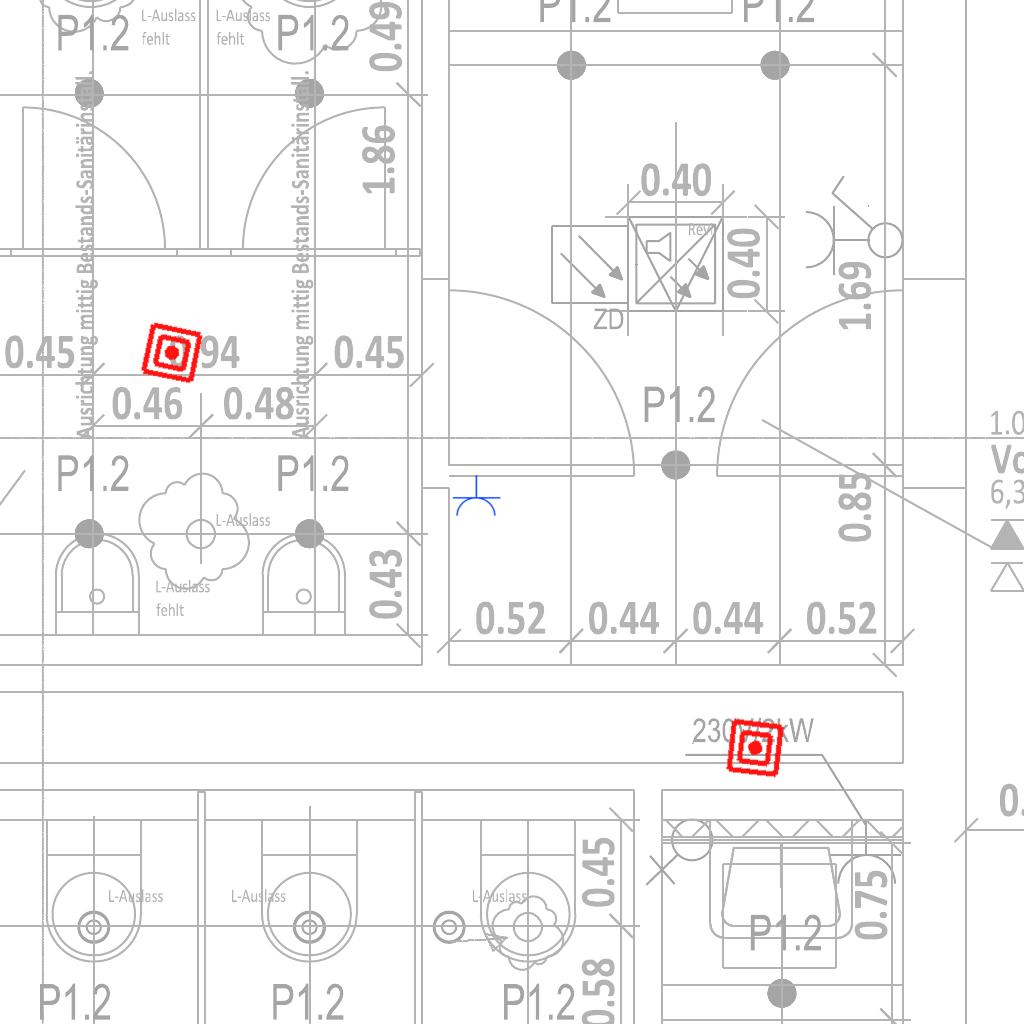NAM-Nichtautomatischer_Melder: (138, 319, 206, 387), (723, 716, 787, 780)
Schukosteckdose_einfach: (451, 475, 501, 518)
